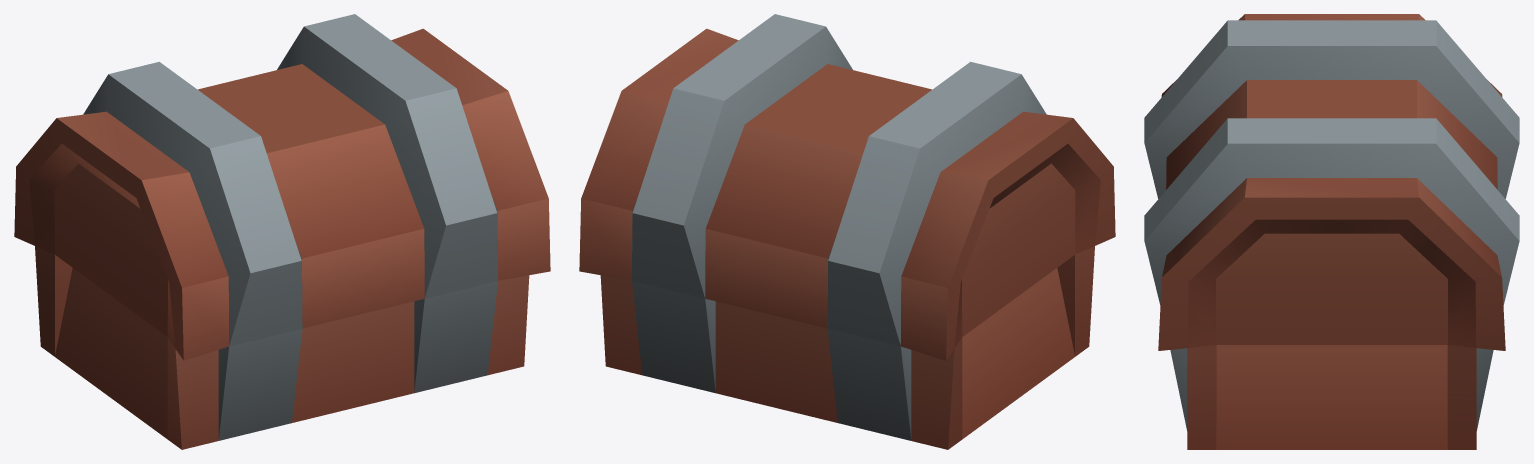
File: trunk.fbx
3 views of the same model, side by side, from view 1: azimuth 30°, elevation 25°; view 2: azimuth 150°, elevation 25°; view 3: azimuth 270°, elevation 25° (orthographic). The views are drawn at different scales.
Visible parts, largest first — view 1: trunk_small_A; view 2: trunk_small_A; view 3: trunk_small_A.
Boxes of the visible parts, bbox=[...] form: trunk_small_A: bbox=[14, 14, 550, 449]; trunk_small_A: bbox=[579, 14, 1115, 449]; trunk_small_A: bbox=[1144, 14, 1519, 449].
Bounding box in the file's own units: 67.54 × 48.43 × 58.34.
Materials: 1 (1 with a texture image).
